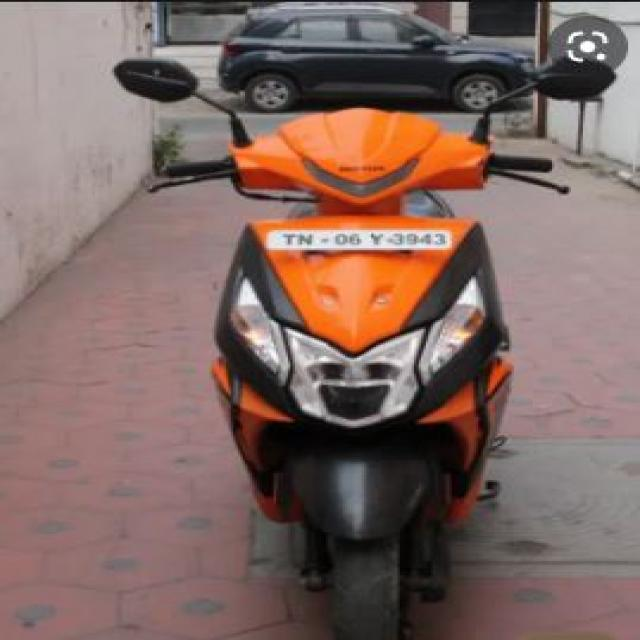number plate: (260, 226, 465, 254)
